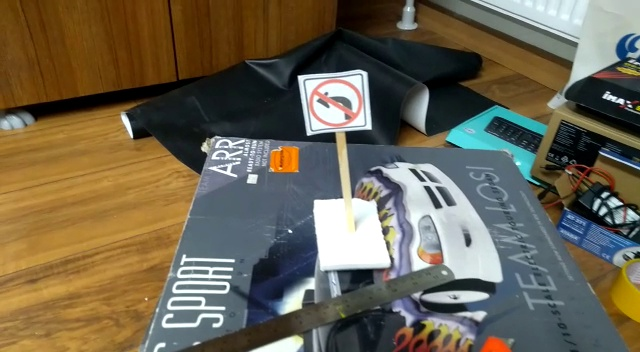sola_donulmez: (305, 75, 368, 129)
